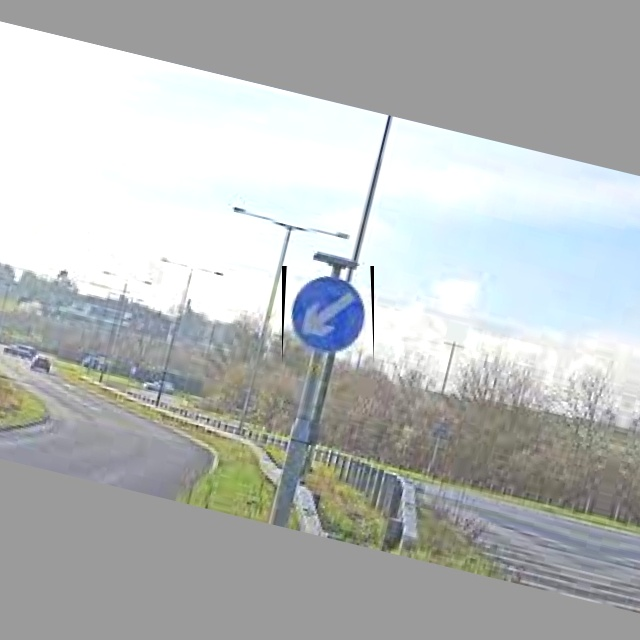Compulsory_Keep_Left: (282, 266, 374, 364)
